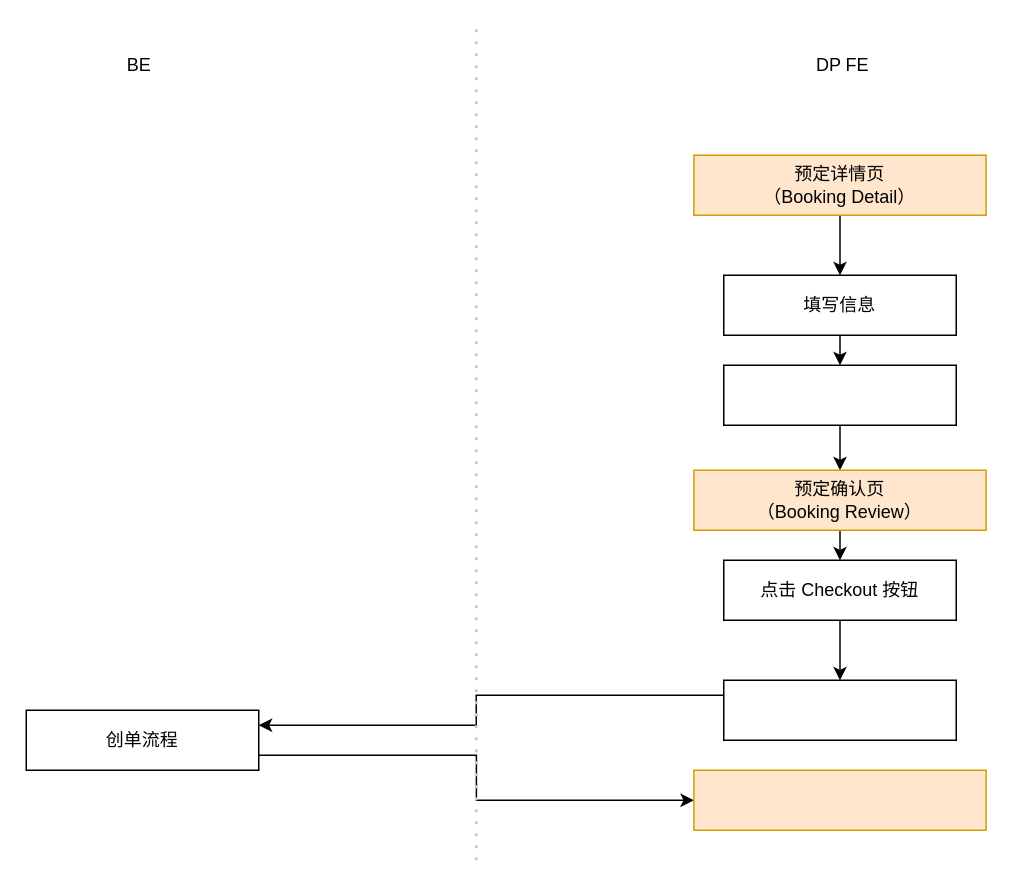
This 1013x888 diagram has some shape labels left out. The shapes that lost their labels are listed below. From the top down, each one's centre as x and y in pixels, then its label:
the point at 839,394: 点击 Continue 按钮
the point at 839,709: store获取Hotel创单所需参数
the point at 839,799: Checkout 页面
